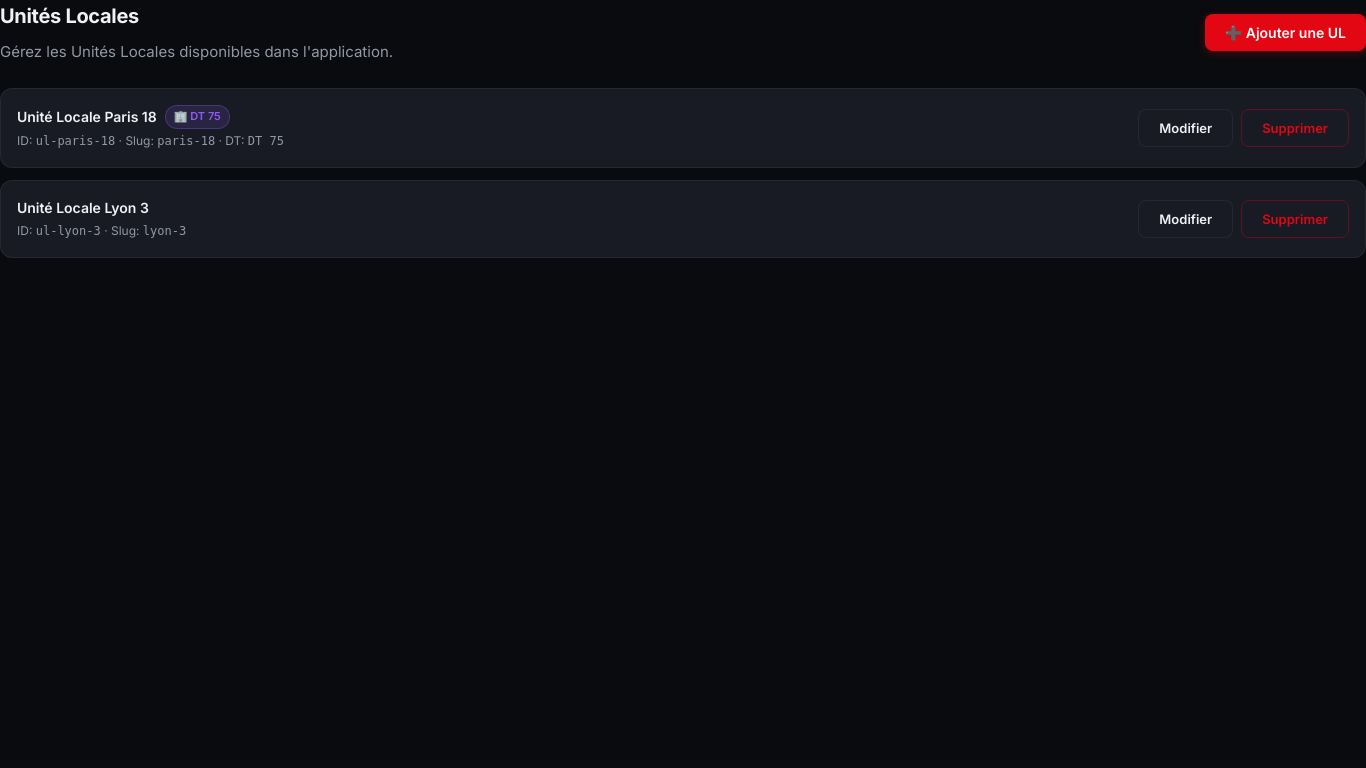
Test: ULsTab › génère automatiquement le slug depuis le nom en création
Expected: the text "Unité Locale Paris 18" is shown, [17,106,157,128]
Click the button "➕ Ajouter une UL": (1285, 32) [1205,14,1365,50]
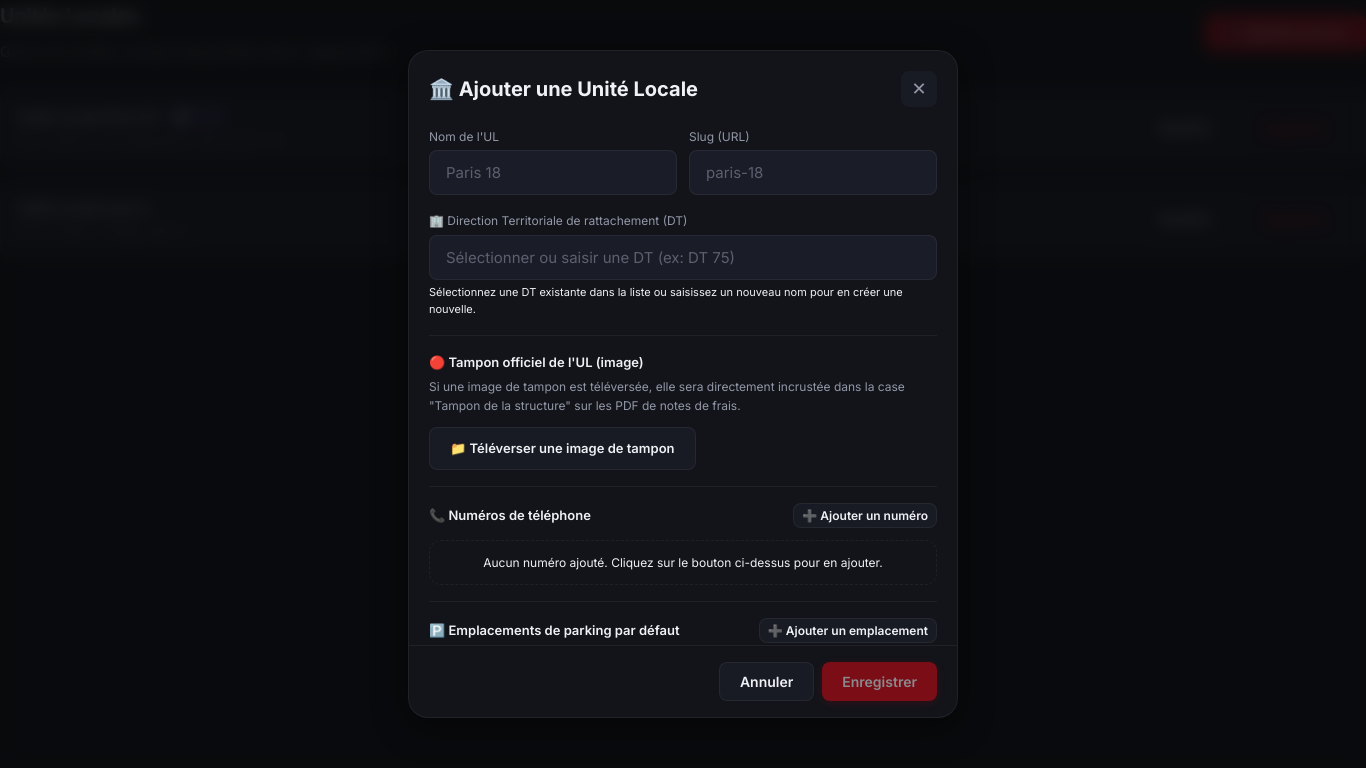
In the field with placeholder "Paris 18": (553, 173) [429,150,677,195], type "Saint-Étienne 42"
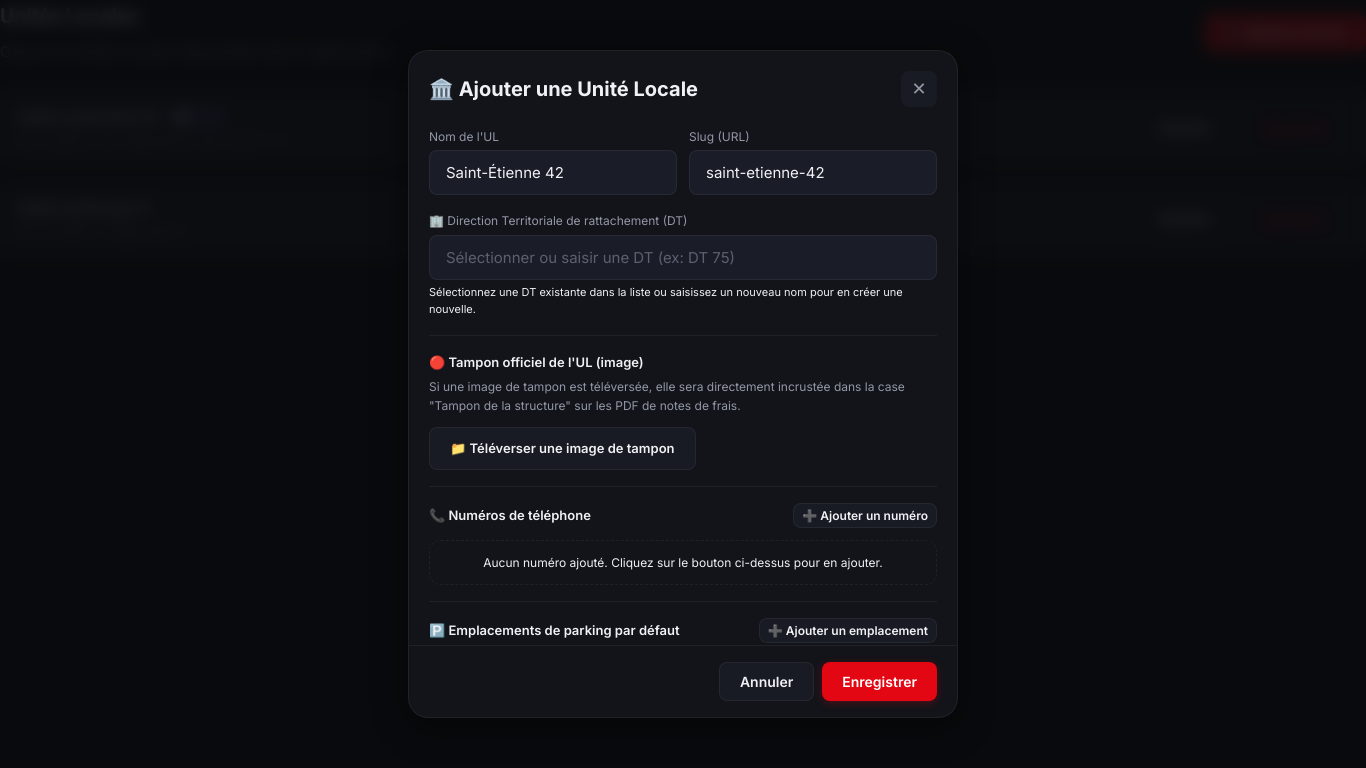
Expected: the field with placeholder "paris-18" below "Slug (URL)" holds "saint-etienne-42", [689,150,937,195]
